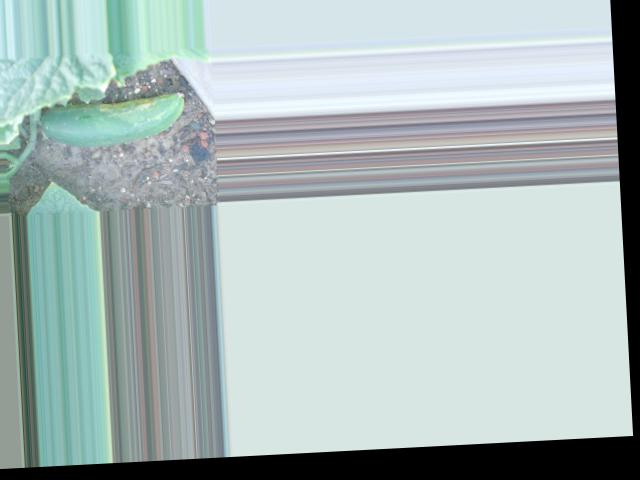cucumber: (40, 91, 186, 148)
